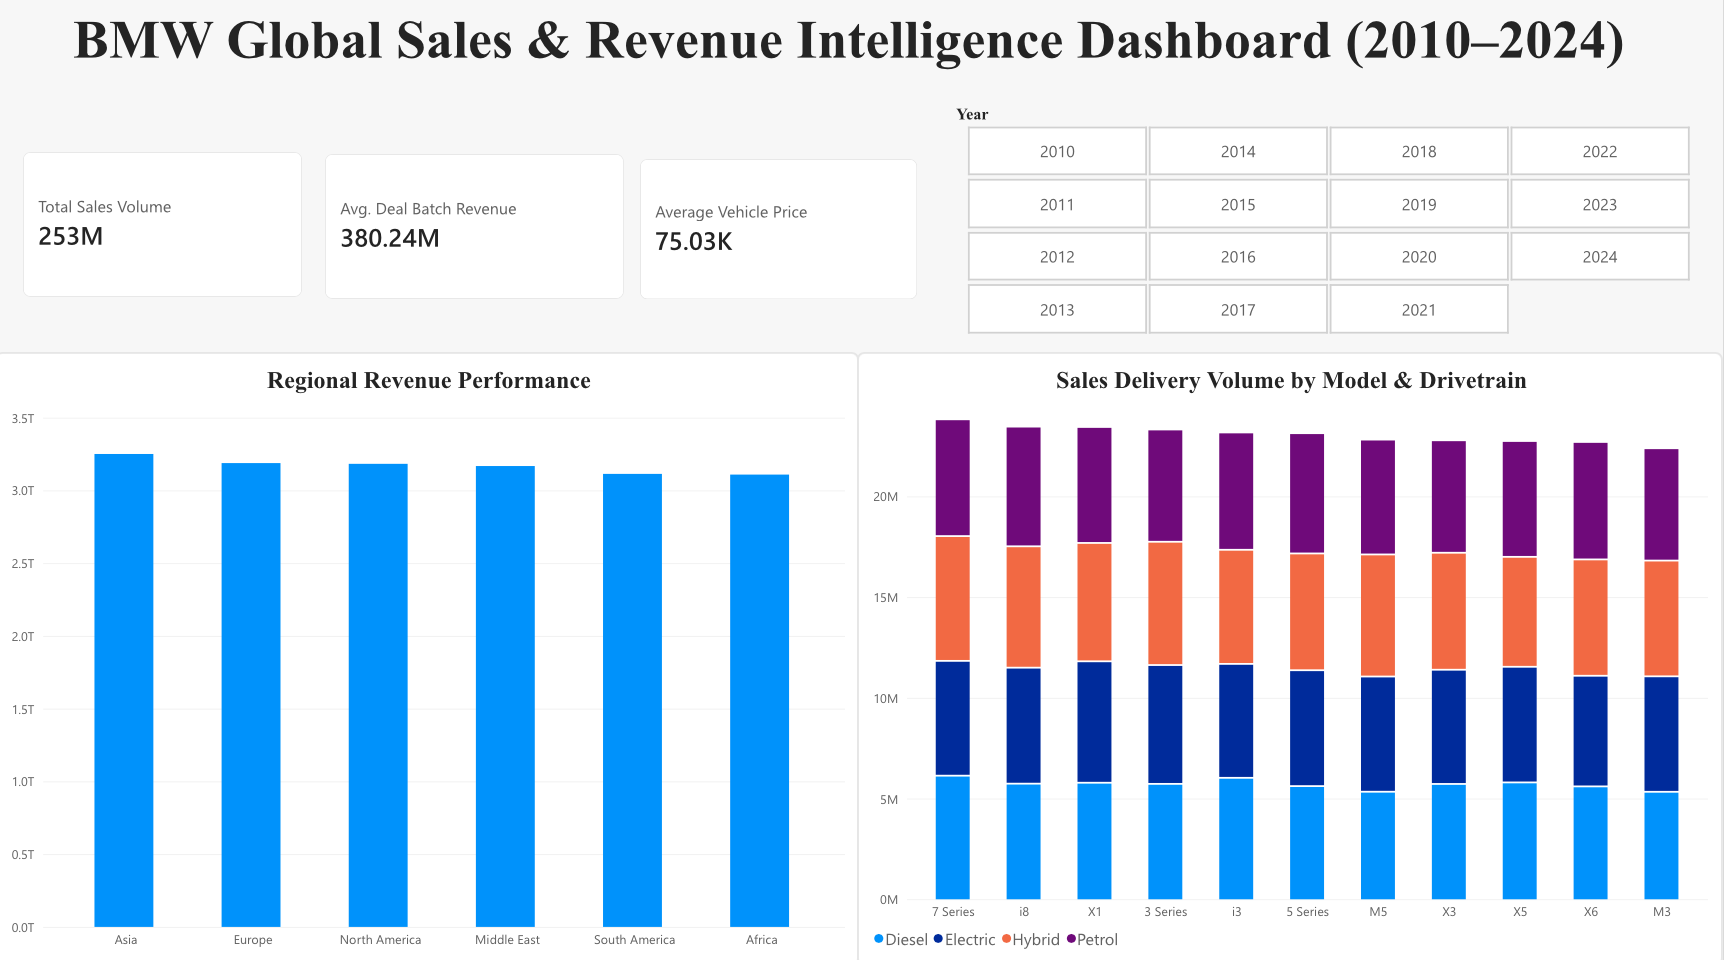

The dashboard page shown, as its layout file describes it:
{"tool":"powerbi","page":{"name":"Page 1","canvas":[1920,1080],"ordinal":0},"visuals":[{"type":"cardVisual","fields":{"Data":["Sum(bmw_digital_sales_2010_2024 1.Sales_Volume)"]},"box":[30.9,176,310.3,161.5],"z":0},{"type":"cardVisual","fields":{"Data":["Avg(bmw_digital_sales_2010_2024 1.Total_Revenue)"]},"box":[366.6,177.8,332.1,161.5],"z":1000},{"type":"cardVisual","fields":{"Data":["Avg(bmw_digital_sales_2010_2024 1.Price_USD)"]},"box":[716.8,183.3,308.5,156.1],"z":2000},{"type":"clusteredColumnChart","title":"Regional Revenue Performance","fields":{"Category":["bmw_digital_sales_2010_2024 1.Region"],"Y":["Sum(bmw_digital_sales_2010_2024 1.Total_Revenue)"]},"box":[0,397.4,960,682.3],"z":3000},{"type":"columnChart","title":"Sales Delivery Volume by Model & Drivetrain","fields":{"Series":["bmw_digital_sales_2010_2024 1.Fuel_Type"],"Category":["bmw_digital_sales_2010_2024 1.Vehicle_Model"],"Y":["Sum(bmw_digital_sales_2010_2024 1.Sales_Volume)"]},"box":[958.2,397.4,961.9,681.6],"z":4000},{"type":"slicer","fields":{"Values":["bmw_digital_sales_2010_2024 1.Year"]},"box":[1059.8,123.4,842,255.9],"z":5000},{"type":"textbox","title":"BMW Global Sales & Revenue Intelligence Dashboard (2010–2024)","box":[30.9,16.3,1834.7,145.2],"z":6000}]}

Visuals, with their boxes in screenshot pixels (x1, y1, x2, y2), scaled from the page's 1920x1080 canvas onto the 1724x960 screenshot:
cardVisual - Sum(bmw_digital_sales_2010_2024 1.Sales_Volume): [28,156,306,300]
cardVisual - Avg(bmw_digital_sales_2010_2024 1.Total_Revenue): [329,158,627,302]
cardVisual - Avg(bmw_digital_sales_2010_2024 1.Price_USD): [644,163,921,302]
"Regional Revenue Performance" clusteredColumnChart: [0,353,862,959]
"Sales Delivery Volume by Model & Drivetrain" columnChart: [860,353,1723,959]
slicer - bmw_digital_sales_2010_2024 1.Year: [952,110,1708,337]
"BMW Global Sales & Revenue Intelligence Dashboard (2010–2024)" textbox: [28,14,1675,144]
